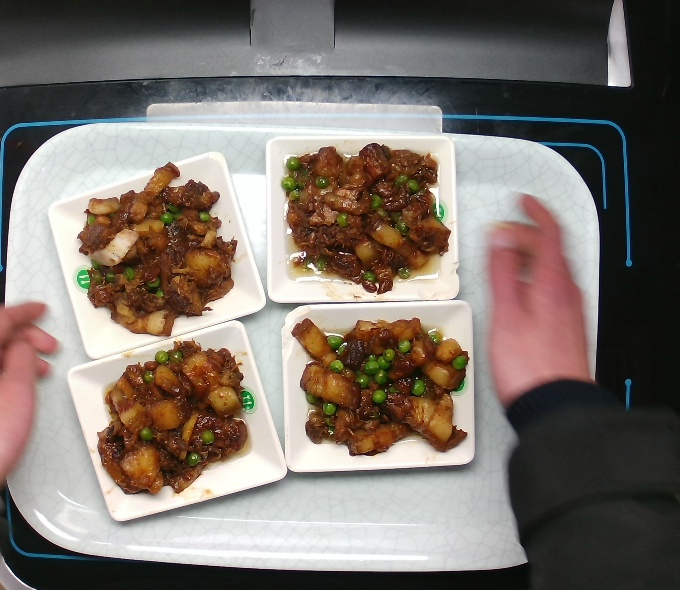wcq-JiangRou: (68, 158, 243, 342), (276, 138, 456, 297), (284, 312, 474, 460), (89, 336, 255, 501)
